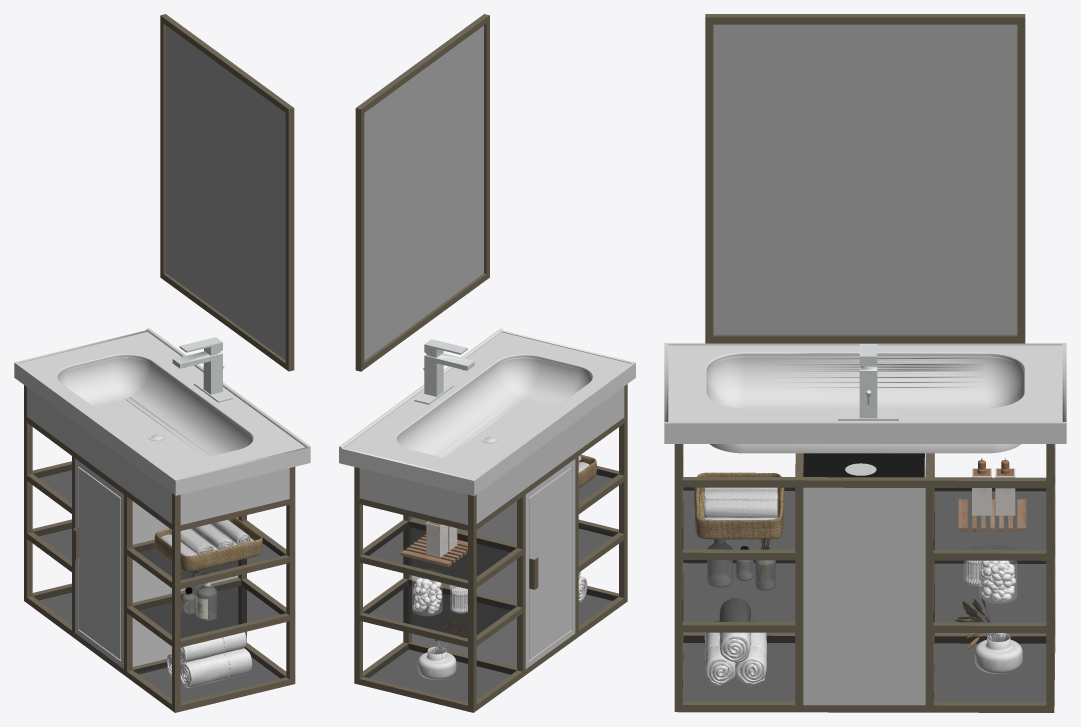
Rendered from luma-iconica-noir.glb.
3 views of the same model, side by side, from view 1: azimuth 30°, elevation 25°; view 2: azimuth 150°, elevation 25°; view 3: azimuth 270°, elevation 25° (orthographic). The views are drawn at different scales.
Visible parts, largest first — view 1: G-Object.059, G-Object.032, G-Object.055, _C-HI-MACS 478 DECOBOWL (Loose Mesh), _G-Object.002 (Loose Mesh), G-Object.041, G-Object.040, G-Object.052, G-Object.053, C-Component#189, G-Object.044, G-Object.329 (+11 smaller); view 2: G-Object.059, G-Object.032, G-Object.055, _C-HI-MACS 478 DECOBOWL (Loose Mesh), G-Object.041, _G-Object.002 (Loose Mesh), G-Object.040, G-Object.050, G-Object.049, G-Object.048, G-Faucet.001, G-Object.044 (+8 smaller); view 3: G-Object.059, G-Object.041, G-Object.055, G-Object.032, _C-HI-MACS 478 DECOBOWL (Loose Mesh), G-Object.050, G-Object.052, G-Object.049, G-Object.048, G-Object.053, G-Object.044, _G-Object.002 (Loose Mesh) (+16 smaller).
Part boxes in pixels (x1=…): G-Object.059: x1=160, y1=14, x2=294, y2=371; G-Object.032: x1=24, y1=385, x2=295, y2=706; G-Object.055: x1=14, y1=328, x2=310, y2=495; _C-HI-MACS 478 DECOBOWL (Loose Mesh): x1=58, y1=357, x2=252, y2=460; _G-Object.002 (Loose Mesh): x1=27, y1=387, x2=289, y2=524; G-Object.041: x1=75, y1=458, x2=238, y2=668; G-Object.040: x1=78, y1=467, x2=120, y2=659; G-Object.052: x1=133, y1=580, x2=285, y2=638; G-Object.053: x1=133, y1=647, x2=285, y2=702; C-Component#189: x1=154, y1=517, x2=262, y2=571; G-Object.044: x1=97, y1=643, x2=295, y2=712; G-Object.329: x1=180, y1=648, x2=252, y2=687; G-Object.059: x1=355, y1=14, x2=489, y2=371; G-Object.032: x1=354, y1=384, x2=627, y2=711; G-Object.055: x1=339, y1=328, x2=635, y2=495; _C-HI-MACS 478 DECOBOWL (Loose Mesh): x1=397, y1=357, x2=591, y2=460; G-Object.041: x1=412, y1=459, x2=575, y2=668; _G-Object.002 (Loose Mesh): x1=359, y1=386, x2=624, y2=524; G-Object.040: x1=529, y1=467, x2=571, y2=659; G-Object.050: x1=363, y1=643, x2=516, y2=702; G-Object.049: x1=363, y1=579, x2=516, y2=638; G-Object.048: x1=363, y1=521, x2=516, y2=579; G-Faucet.001: x1=423, y1=339, x2=474, y2=396; G-Object.044: x1=363, y1=586, x2=627, y2=677; G-Object.059: x1=705, y1=14, x2=1025, y2=343; G-Object.041: x1=803, y1=453, x2=925, y2=705; G-Object.055: x1=664, y1=343, x2=1066, y2=443; G-Object.032: x1=674, y1=444, x2=1055, y2=712; _C-HI-MACS 478 DECOBOWL (Loose Mesh): x1=707, y1=356, x2=1023, y2=453; G-Object.050: x1=933, y1=636, x2=1046, y2=702; G-Object.052: x1=682, y1=560, x2=795, y2=621; G-Object.049: x1=933, y1=560, x2=1046, y2=622; G-Object.048: x1=933, y1=488, x2=1046, y2=550; G-Object.053: x1=682, y1=635, x2=795, y2=701; G-Object.044: x1=682, y1=636, x2=1046, y2=712; _G-Object.002 (Loose Mesh): x1=803, y1=444, x2=1054, y2=477.
Size of the model in its own units: 0.4895 by 1.94 by 1.01.
32 materials, 14 textured.
